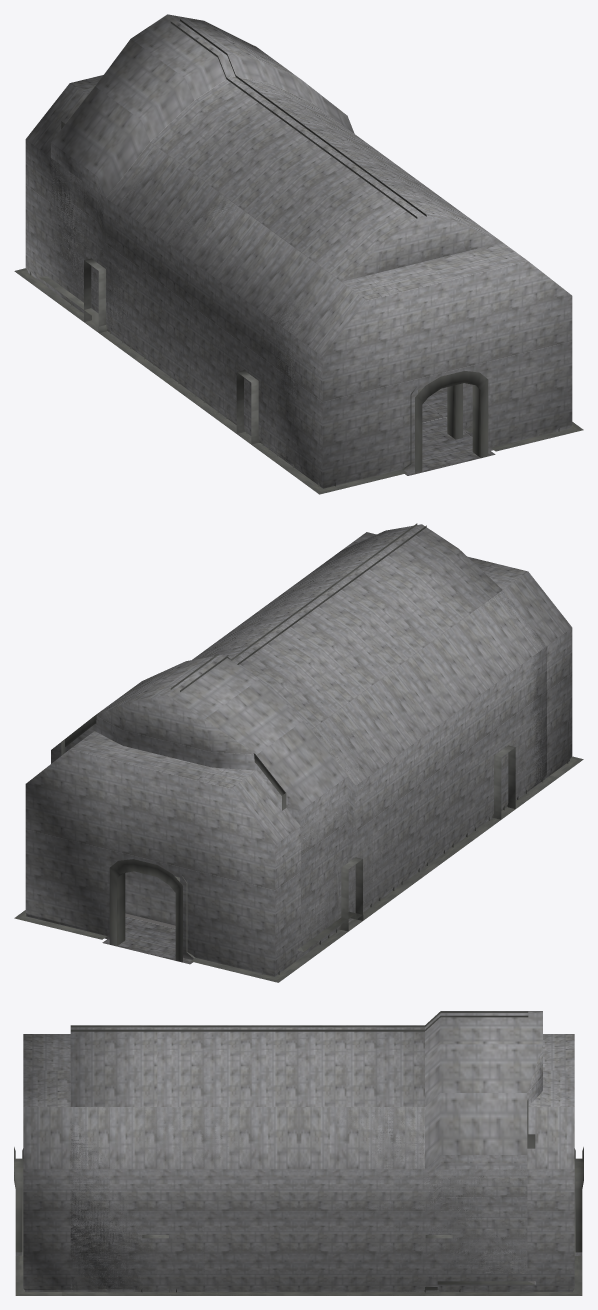
File: DungeonFBX.fbx
3 views of the same model, one above another, from view 1: azimuth 30°, elevation 25°; view 2: azimuth 150°, elevation 25°; view 3: azimuth 270°, elevation 25° (orthographic). The views are drawn at different scales.
Visible parts, largest first — view 1: L_Room_Square, L_Room_Chappel, L_Room_Square_Doors; view 2: L_Room_Chappel, L_Room_Square, L_Room_Square_Doors; view 3: L_Room_Square, L_Room_Chappel, L_Room_Square_Doors.
Part boxes in pixels (x1,y1,x2,y2): L_Room_Square: (14,75,583,494); L_Room_Chappel: (40,14,502,475); L_Room_Square_Doors: (26,159,559,486); L_Room_Chappel: (51,523,557,951); L_Room_Square: (14,532,583,982); L_Room_Square_Doors: (38,606,571,974); L_Room_Square: (14,1034,583,1295); L_Room_Chappel: (62,1011,542,1295); L_Room_Square_Doors: (14,1107,583,1292).
Size of the model in its own units: 1800 by 1699 by 3620.
